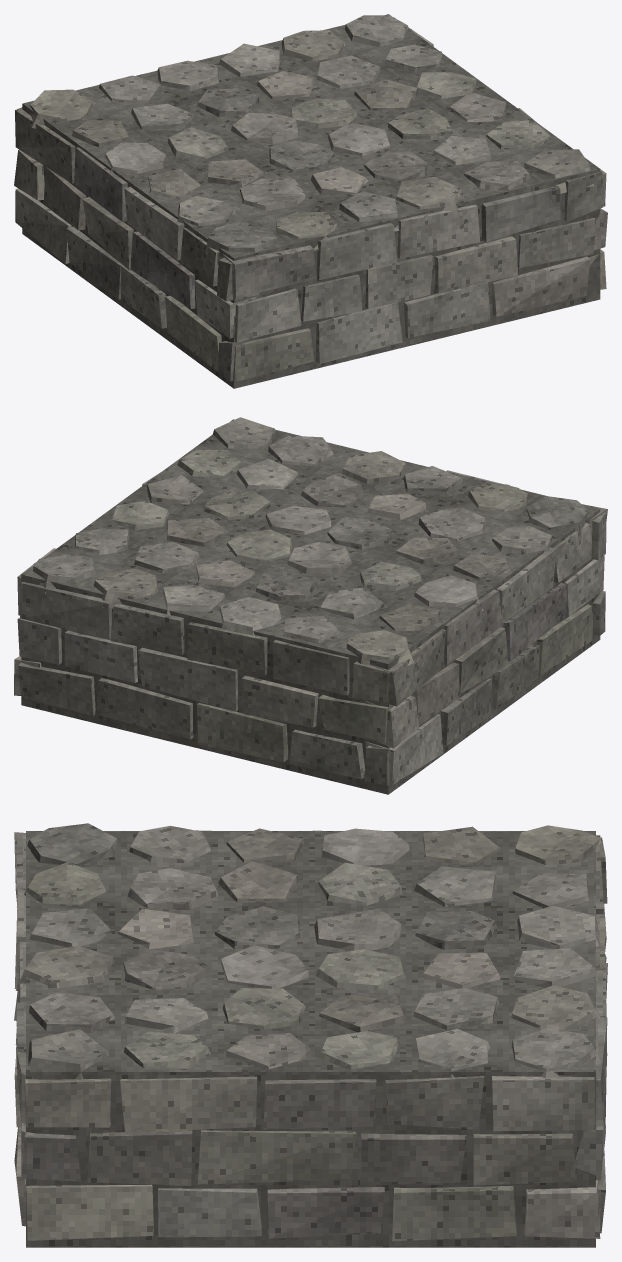
Rendered from fundacao_pedra.glb.
The picture shows the model from 3 angles, top to bottom: view 1: azimuth 30°, elevation 25°; view 2: azimuth 150°, elevation 25°; view 3: azimuth 270°, elevation 25°; orthographic projection. The views are drawn at different scales.
Visible parts, largest first — view 1: fundacao_pedra_pedra; view 2: fundacao_pedra_pedra; view 3: fundacao_pedra_pedra.
Boxes of the visible parts, left/top/right/bottom form: fundacao_pedra_pedra: left=14, top=14, right=607, bottom=388; fundacao_pedra_pedra: left=14, top=417, right=607, bottom=794; fundacao_pedra_pedra: left=14, top=823, right=607, bottom=1247.
Size of the model in its own units: 3.07 by 1.05 by 3.06.
Materials: 1 (1 with a texture image).
